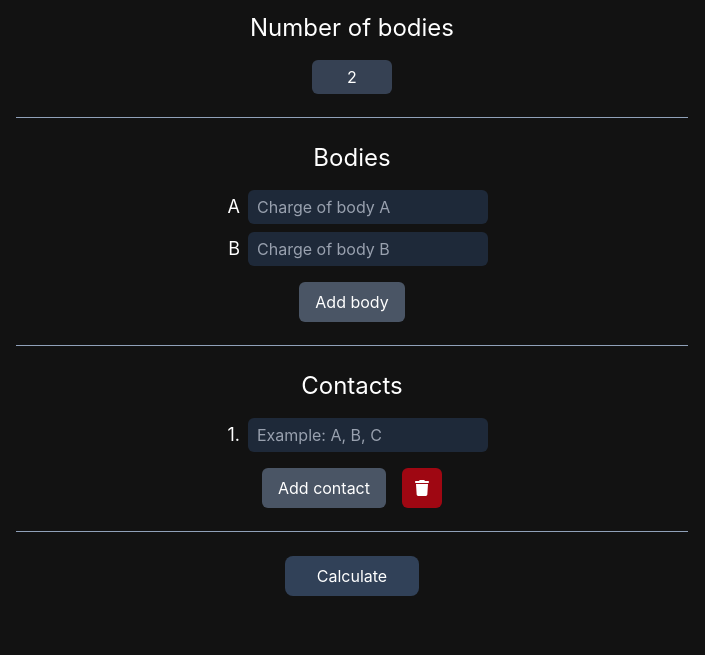
it: Calculator › ignores an out-of-range quantity
Replace the text in the number field labelled "Number of bodies" with "30" at [352, 77], box [312, 60, 392, 94]
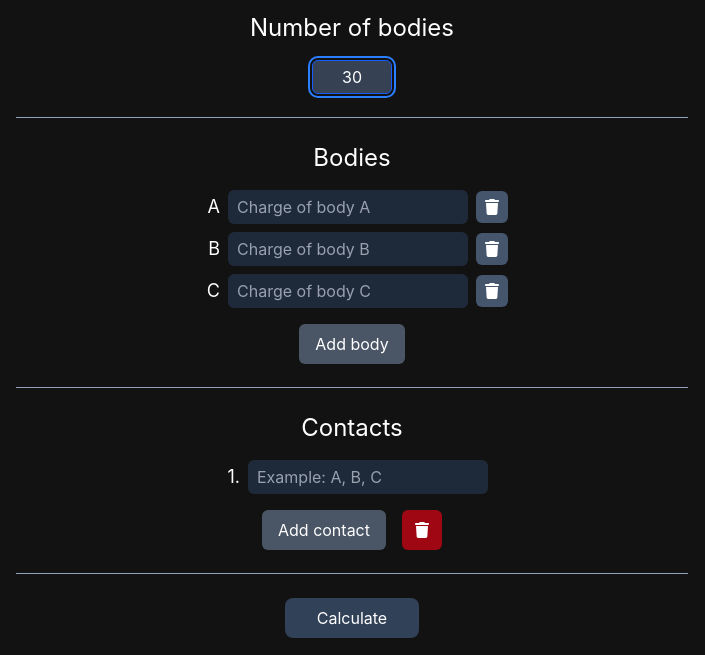
Press Tab
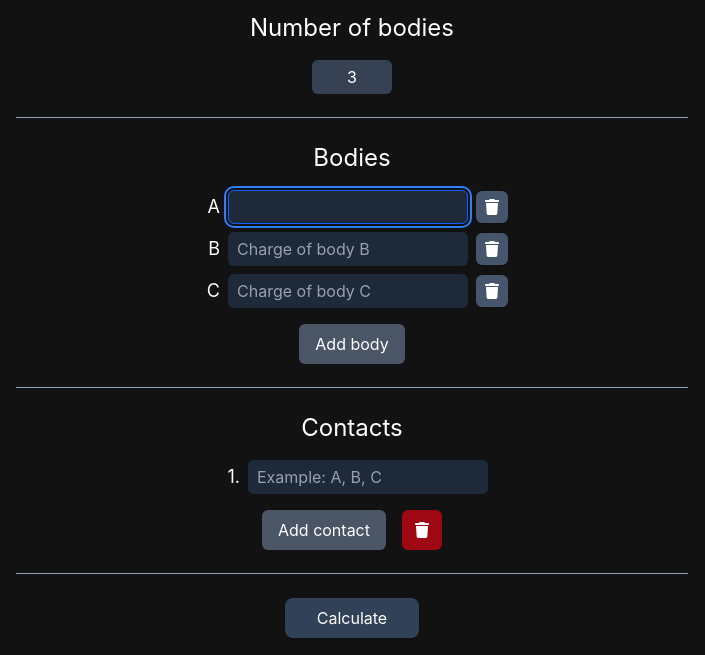
expect the number of fields named "Charge of body" is 3: met, box [228, 190, 468, 224]; [228, 232, 468, 266]; [228, 274, 468, 308]
expect the number field labelled "Number of bodies" holds "3": met, box [312, 60, 392, 94]
